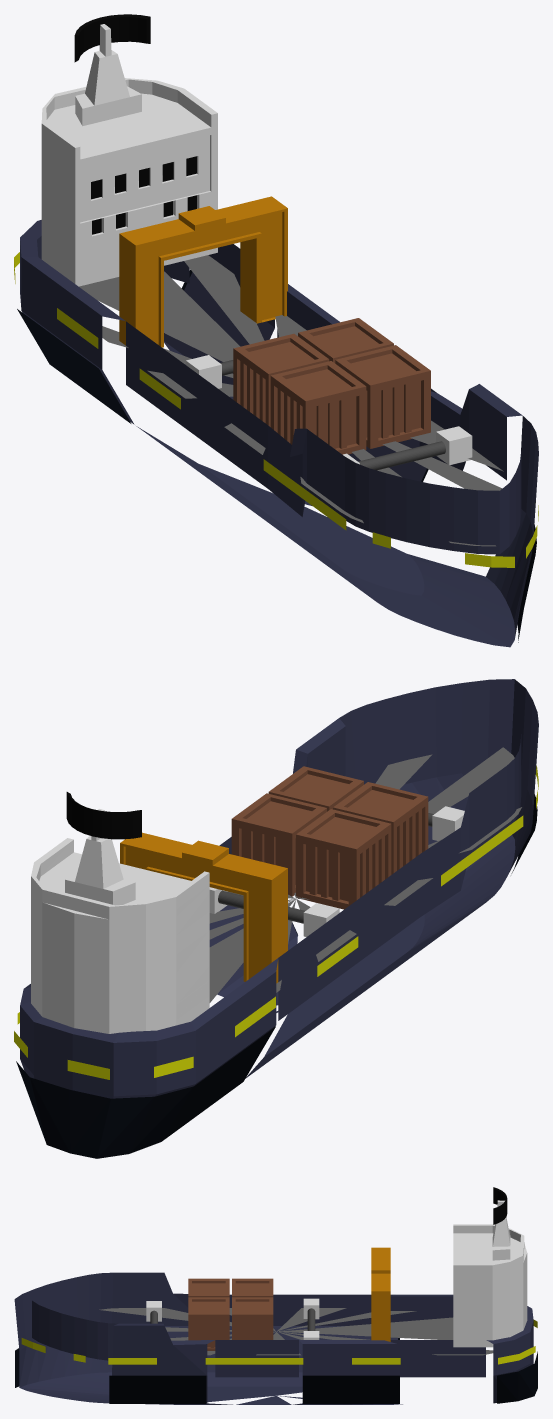
File: Transport.glb
3 renders of one model, top to bottom at view 1: azimuth 30°, elevation 25°; view 2: azimuth 150°, elevation 25°; view 3: azimuth 270°, elevation 25°, orthographic. The views are drawn at different scales.
Parts seen in each view (by area): view 1: body, control tower, crain, deck, crate.002, crate.003, crate.001, body.001, body rim, crate, radar, stopper (+1 smaller); view 2: body, control tower, body.001, crain, crate.001, deck, crate, crate.002, body rim, crate.003, radar, stopper left (+2 smaller); view 3: body, control tower, body.001, deck, body rim, crate.003, crain, crate, crate.002, crate.001, radar, stopper left.001.
Part boxes in pixels (left/top/right/bottom): body: left=20, top=220, right=538, bottom=647; control tower: left=41, top=24, right=217, bottom=286; crain: left=119, top=196, right=287, bottom=347; deck: left=79, top=255, right=503, bottom=546; crate.002: left=270, top=361, right=366, bottom=454; crate.003: left=335, top=345, right=430, bottom=448; crate.001: left=233, top=333, right=329, bottom=426; body.001: left=17, top=269, right=536, bottom=642; body rim: left=14, top=252, right=538, bottom=567; crate: left=298, top=318, right=393, bottom=363; radar: left=74, top=14, right=150, bottom=62; stopper: left=358, top=441, right=445, bottom=470; body: left=20, top=679, right=538, bottom=1098; control tower: left=31, top=809, right=209, bottom=1033; body.001: left=16, top=794, right=537, bottom=1158; crain: left=120, top=832, right=287, bottom=983; crate.001: left=296, top=809, right=391, bottom=909; deck: left=209, top=747, right=521, bottom=1002; crate: left=231, top=793, right=326, bottom=896; crate.002: left=333, top=782, right=428, bottom=874; body rim: left=14, top=765, right=538, bottom=1079; crate.003: left=268, top=766, right=363, bottom=811; radar: left=66, top=792, right=141, bottom=839; stopper left: left=432, top=806, right=464, bottom=840; body: left=14, top=1272, right=533, bottom=1404; control tower: left=453, top=1200, right=527, bottom=1347; body.001: left=15, top=1338, right=537, bottom=1403; deck: left=99, top=1308, right=493, bottom=1355; body rim: left=21, top=1319, right=537, bottom=1364; crate.003: left=188, top=1297, right=229, bottom=1350; crain: left=371, top=1247, right=390, bottom=1341; crate: left=232, top=1297, right=273, bottom=1339; crate.002: left=188, top=1278, right=229, bottom=1297; crate.001: left=232, top=1278, right=273, bottom=1297; radar: left=493, top=1187, right=507, bottom=1224; stopper left.001: left=303, top=1298, right=319, bottom=1319.
Size of the model in its own units: 0.8759 by 1.54 by 3.67.
